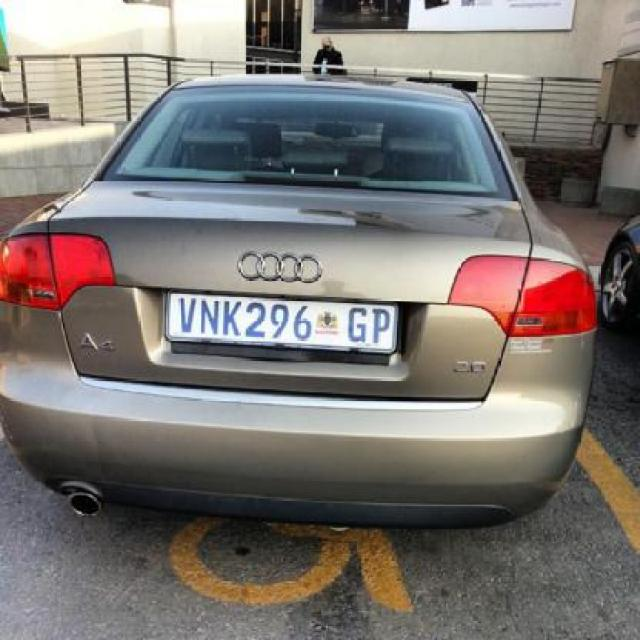License-Plates: (165, 288, 405, 354)
